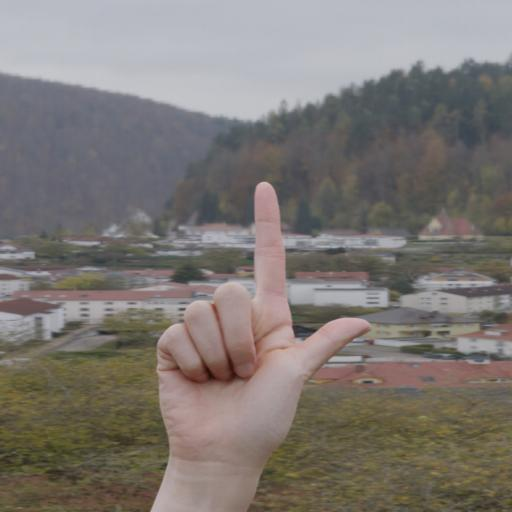L: (148, 171, 374, 512)
